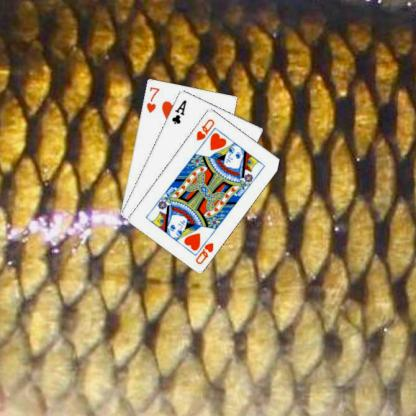7H: (143, 84, 161, 114)
AC: (169, 97, 188, 125)
QH: (191, 233, 215, 265), (193, 116, 216, 142)
